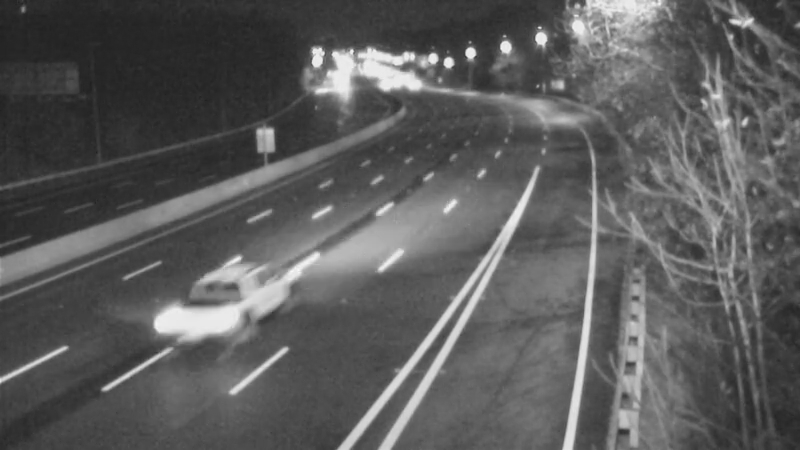vehicle: (148, 269, 258, 379)
